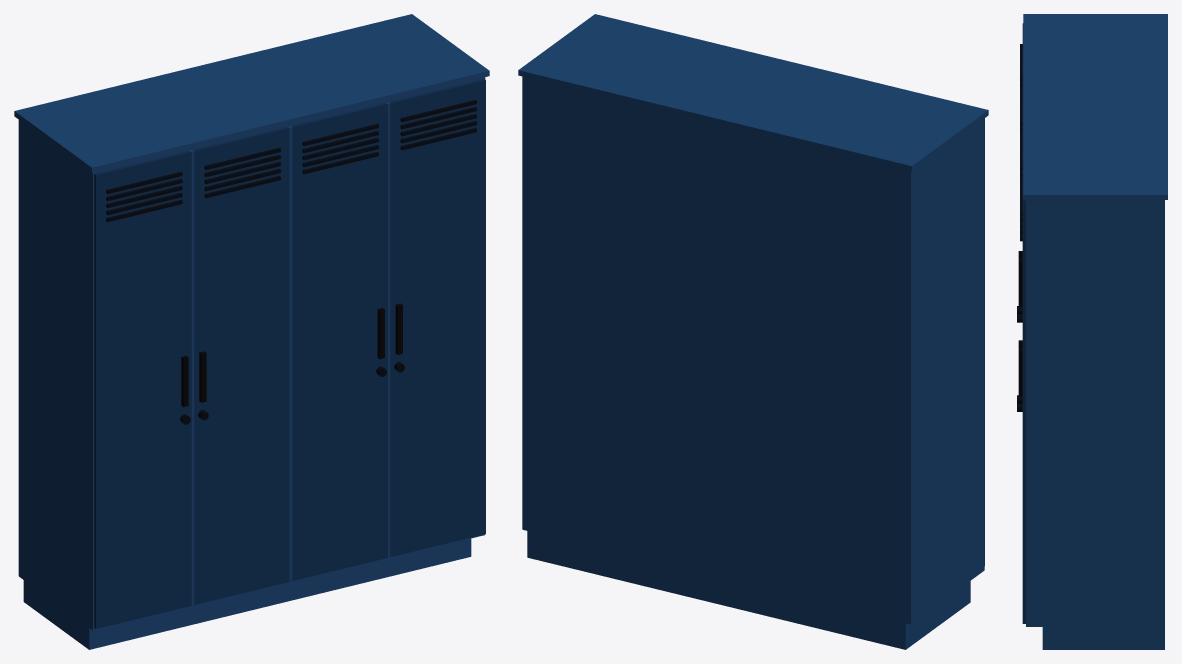
Rendered from Casilleros.fbx.
3 renders of one model, left to right at view 1: azimuth 30°, elevation 25°; view 2: azimuth 150°, elevation 25°; view 3: azimuth 270°, elevation 25°, orthographic. The views are drawn at different scales.
Parts seen in each view (by area): view 1: Locker_Door_4; view 2: Locker_Door_4; view 3: Locker_Door_4.
Part boxes in pixels (<box>): Locker_Door_4: <box>14,14,489,649</box>; Locker_Door_4: <box>518,14,988,649</box>; Locker_Door_4: <box>1017,14,1167,649</box>.
Size of the model in its own units: 60.63 by 71.65 by 21.34.
